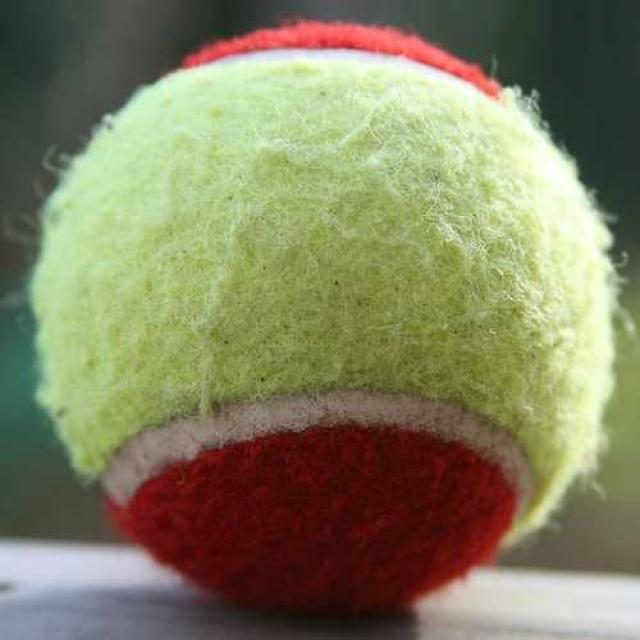Tennis_Ball: (28, 23, 613, 603)
